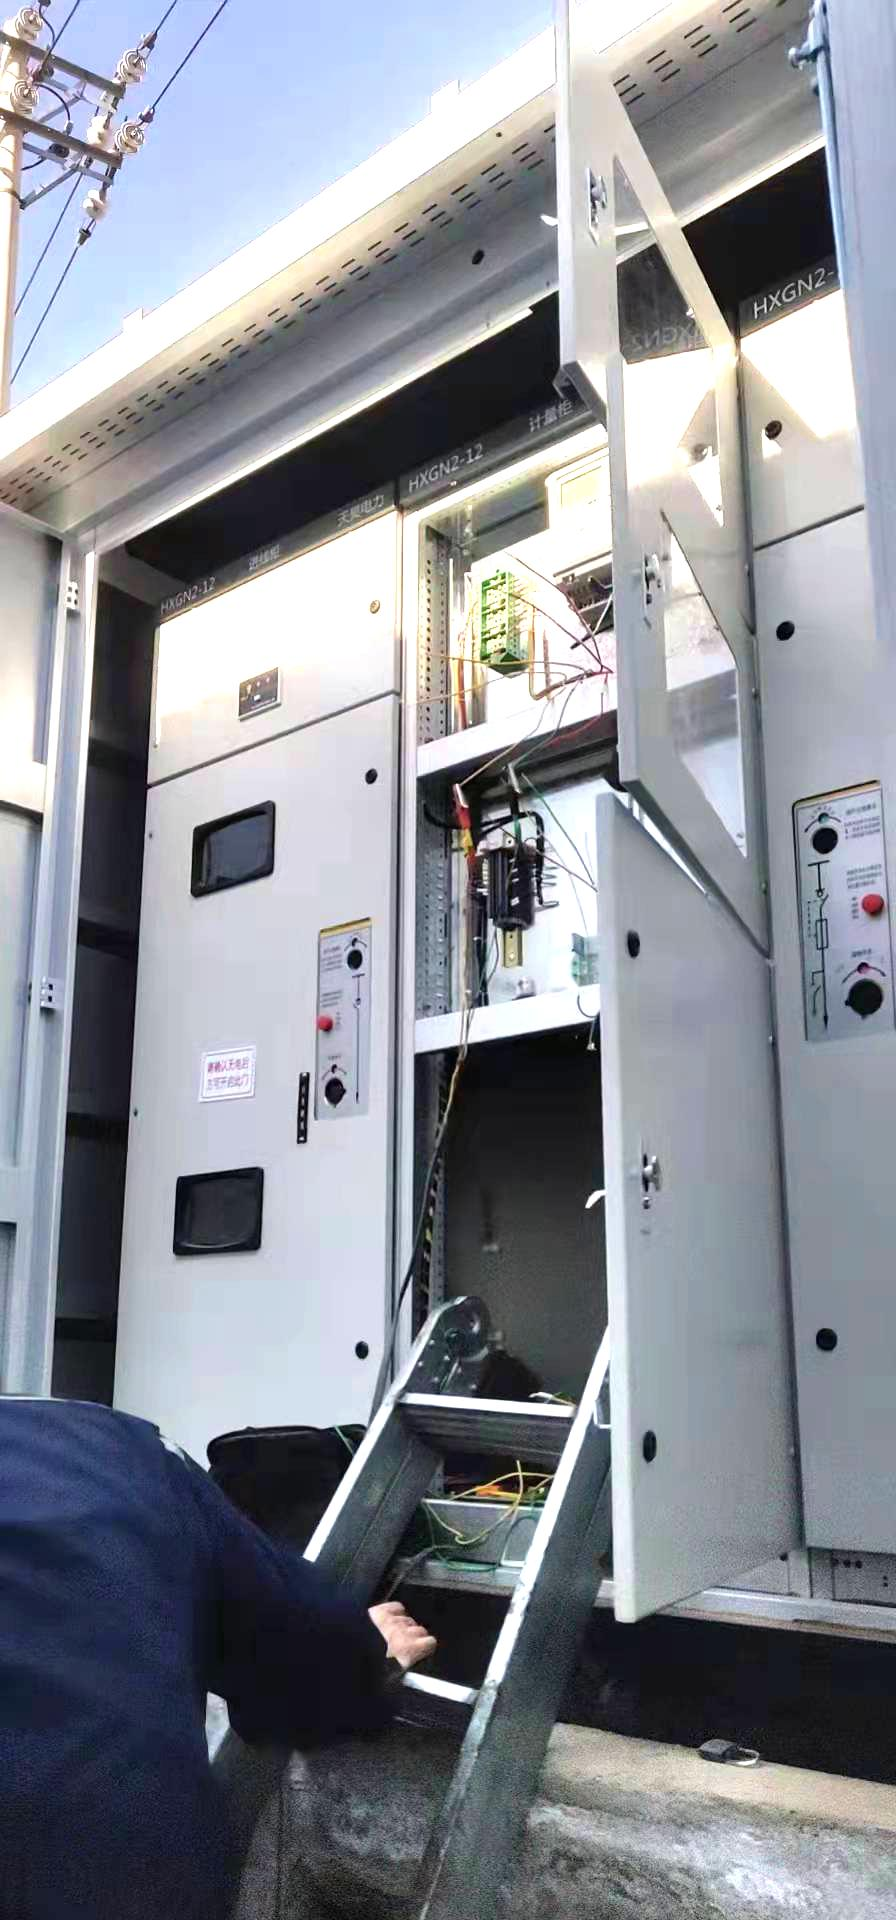digital: (543, 447, 612, 587)
